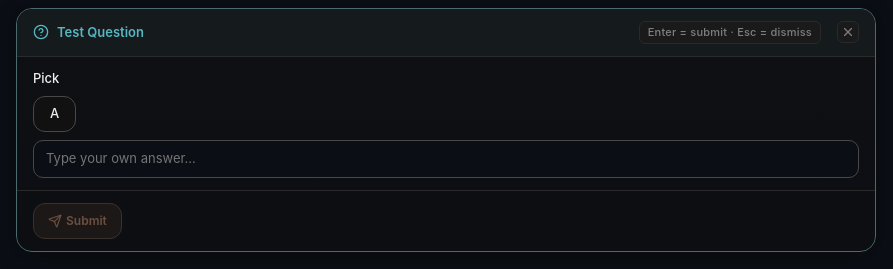
Test: QuestionDock › submit button is enabled after selecting an answer
The image size is (893, 269).
Click the option "A" at (55, 114), box [33,96,76,132]
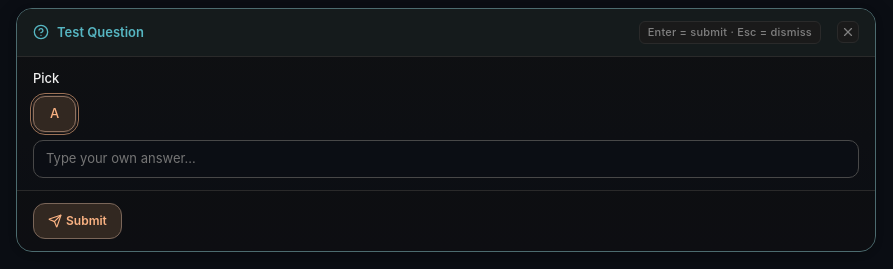
Expected: the button with aria-label "Submit answers" is enabled, [33,203,122,239]
